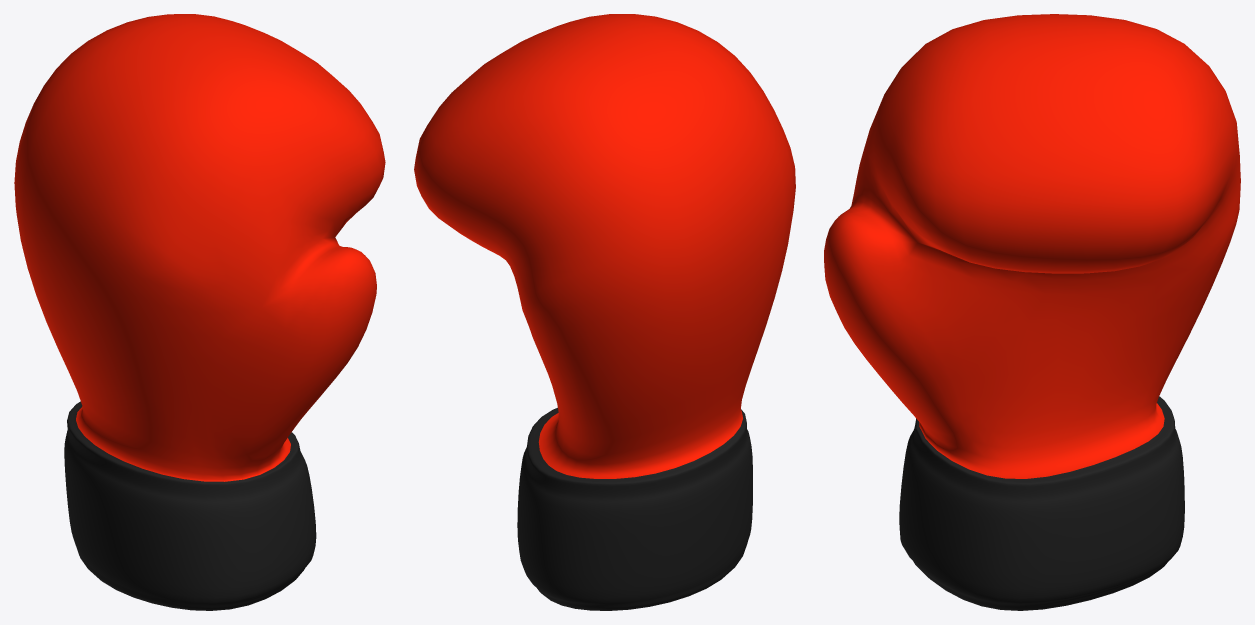
The model's file is boxing.fbx.
The picture shows the model from 3 angles, left to right: view 1: azimuth 30°, elevation 25°; view 2: azimuth 150°, elevation 25°; view 3: azimuth 270°, elevation 25°; orthographic projection. The views are drawn at different scales.
Visible parts, largest first — view 1: Boxing Glove.002; view 2: Boxing Glove.002; view 3: Boxing Glove.002.
Part boxes in pixels (x1=…): Boxing Glove.002: x1=14, y1=14, x2=385, y2=610; Boxing Glove.002: x1=414, y1=14, x2=795, y2=610; Boxing Glove.002: x1=824, y1=14, x2=1240, y2=610.
Bounding box in the file's own units: 602 × 1004 × 701.
